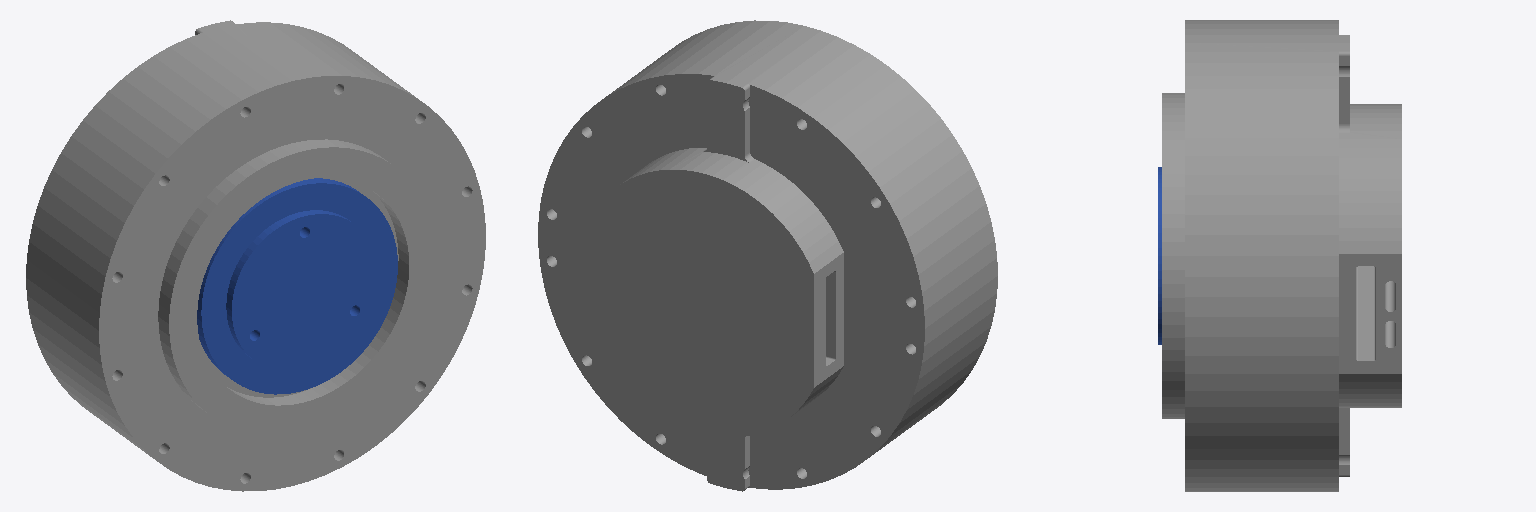
The robot description file, URDF, robot "rmd_x12_150_mock":
<?xml version='1.0' encoding='utf-8'?>
<robot name="rmd_x12_150_mock"> 
  <link name="base_link" />

  <joint name="base_link_to_chassis" type="fixed">
    <parent link="base_link"/>
    <child link="link_outer_x12_150_1"/>
  </joint>
  <link name="link_inner_x12_150_1">
    <visual>
      <origin xyz="0 0 0" rpy="0 0 0" />
      <geometry>
        <mesh filename="./meshes/inner_x12_150_1.stl" />
        </geometry>
      <material name="link_inner_x12_150_1_material">
        <color rgba="0.23137255 0.38039216 0.70588235 1" />
        </material>
      </visual>
    <collision>
      <origin xyz="0 0 0" rpy="0 0 0" />
      <geometry>
        <mesh filename="./meshes/inner_x12_150_1.stl" />
        </geometry>
      </collision>
    <inertial>
      <mass value="0.1494739" />
      <inertia ixx="4.1852816e-05" iyy="4.1852816e-05" izz="7.1701209e-05" ixy="0" ixz="0" iyz="0" />
      <origin xyz="0 0 -0.010858971" rpy="3.1415927 0 0" />
      </inertial>
    </link>
  <link name="link_outer_x12_150_1">
    <visual>
      <origin xyz="0 0 0" rpy="0 0 0" />
      <geometry>
        <mesh filename="./meshes/outer_x12_150_1.stl" />
        </geometry>
      <material name="link_outer_x12_150_1_material">
        <color rgba="0.64705882 0.64705882 0.64705882 1" />
        </material>
      </visual>
    <collision>
      <origin xyz="0 0 0" rpy="0 0 0" />
      <geometry>
        <mesh filename="./meshes/outer_x12_150_1.stl" />
        </geometry>
      </collision>
    <inertial>
      <mass value="1.1505225" />
      <inertia ixx="0.0013578926" iyy="0.0021889818" izz="0.0013275542" ixy="0" ixz="0" iyz="0" />
      <origin xyz="0 0 0" rpy="-2.4503265 -1.5698733 -2.2621132" />
      </inertial>
    </link>
  <joint name="joint_dof_x12" type="revolute">
    <origin xyz="1.5243254e-05 -0.0086023019 0" rpy="-1.5707963 0 0" />
    <parent link="link_outer_x12_150_1" />
    <child link="link_inner_x12_150_1" />
    <limit effort="80" velocity="5" lower="-4.712389" upper="4.712389" />
    <axis xyz="0 0 -1" />
    </joint>
  </robot>

--- Render facts (derived) ---
Views: 3 orthographic renders of the robot side by side, from view 1: azimuth 30°, elevation 25°; view 2: azimuth 150°, elevation 25°; view 3: azimuth 270°, elevation 25°.
Model rmd_x12_150_mock with 3 links and 2 joints (1 revolute, 1 fixed), rooted at base_link, posed every joint at zero.
Visible links, largest first — view 1: link_outer_x12_150_1, link_inner_x12_150_1; view 2: link_outer_x12_150_1; view 3: link_outer_x12_150_1, link_inner_x12_150_1.
Link boxes in pixels (left/top/right/bottom): link_outer_x12_150_1: left=26, top=20, right=485, bottom=491; link_inner_x12_150_1: left=197, top=178, right=397, bottom=394; link_outer_x12_150_1: left=538, top=20, right=997, bottom=491; link_outer_x12_150_1: left=1162, top=20, right=1401, bottom=491; link_inner_x12_150_1: left=1158, top=167, right=1161, bottom=344.
Bounding box of the posed robot: 0.124 × 0.0641 × 0.124 m (x, y, z).
2 mesh visuals loaded from 2 distinct referenced files (2 binary STL).